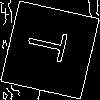T: (24, 25, 78, 66)
